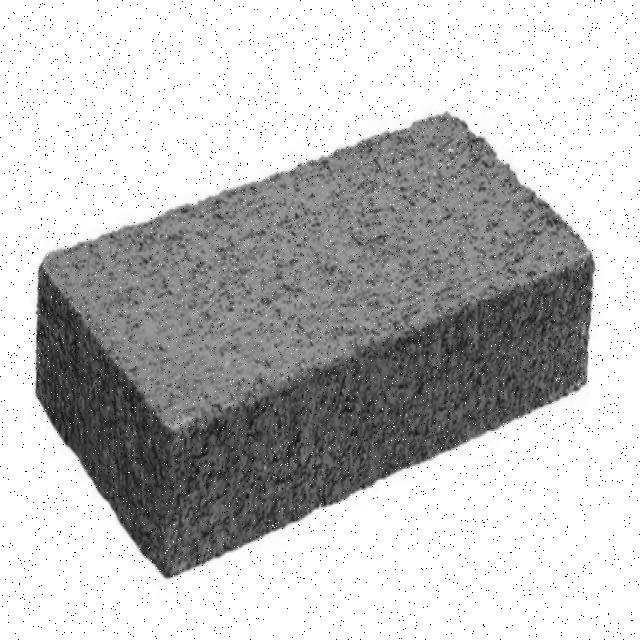bricks: (32, 108, 595, 582)
